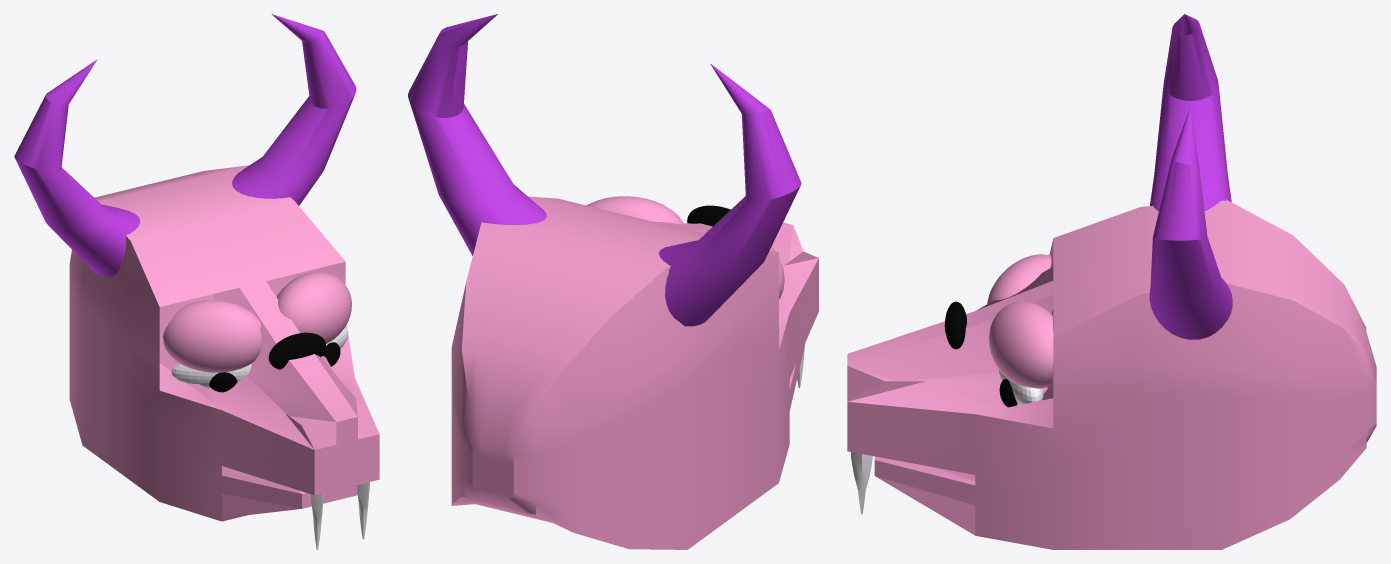
Rendered from Cabeza de Dragón.glb.
The picture shows the model from 3 angles, left to right: view 1: azimuth 30°, elevation 25°; view 2: azimuth 150°, elevation 25°; view 3: azimuth 270°, elevation 25°; orthographic projection. The views are drawn at different scales.
Visible parts, largest first — view 1: Cubo.001; view 2: Cubo.001; view 3: Cubo.001.
Boxes of the visible parts, box(x1,y1,x2,y2) form: Cubo.001: box(14, 14, 379, 549); Cubo.001: box(408, 14, 818, 549); Cubo.001: box(847, 14, 1376, 549).
Size of the model in its own units: 3.54 by 4.11 by 4.51.
